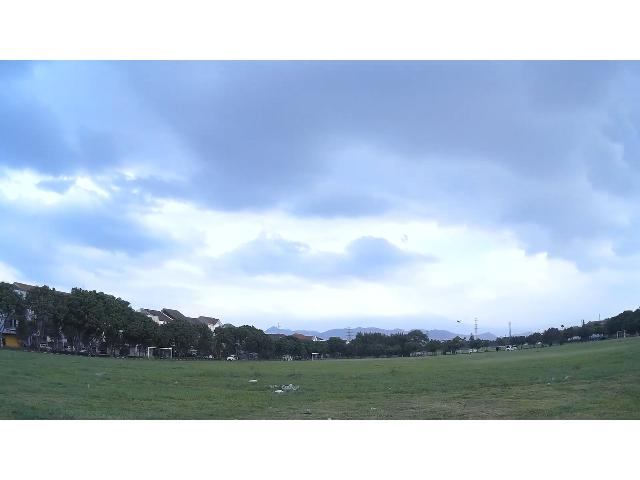Anti-Drone: (445, 312, 471, 330)
